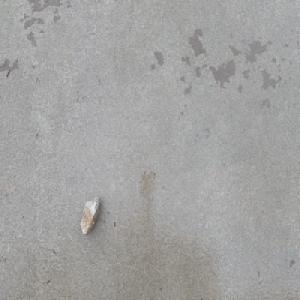Rock: (79, 193, 100, 237)
